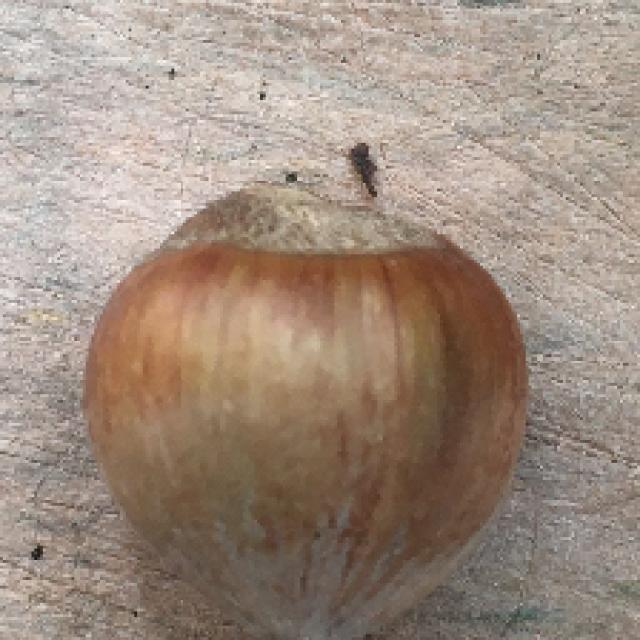damagedHazelnut: (71, 148, 552, 640)
